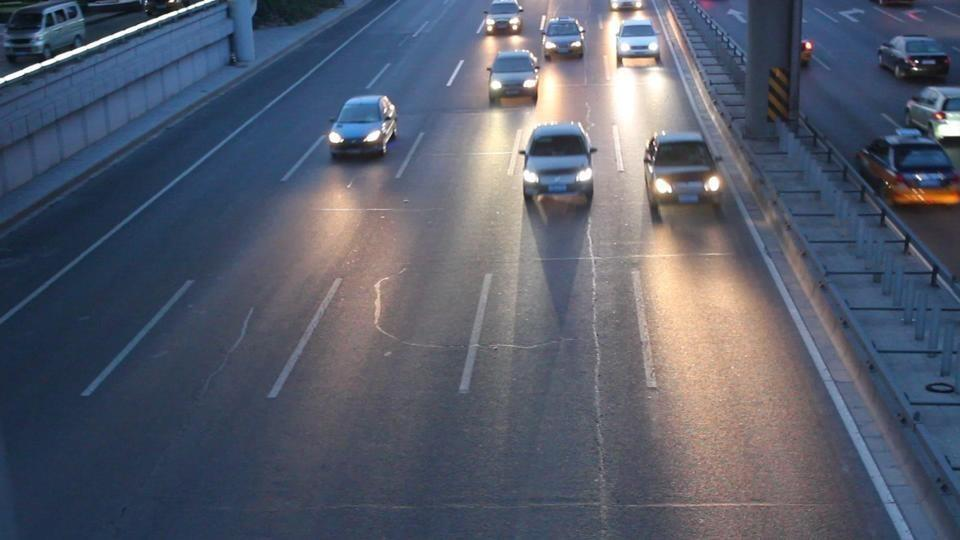car: (854, 129, 960, 206), (642, 130, 726, 212), (519, 122, 596, 202), (1, 1, 87, 65), (327, 94, 398, 160), (875, 36, 953, 82), (904, 86, 960, 150), (487, 50, 541, 106), (615, 19, 661, 68), (541, 18, 586, 59), (478, 0, 525, 35)
